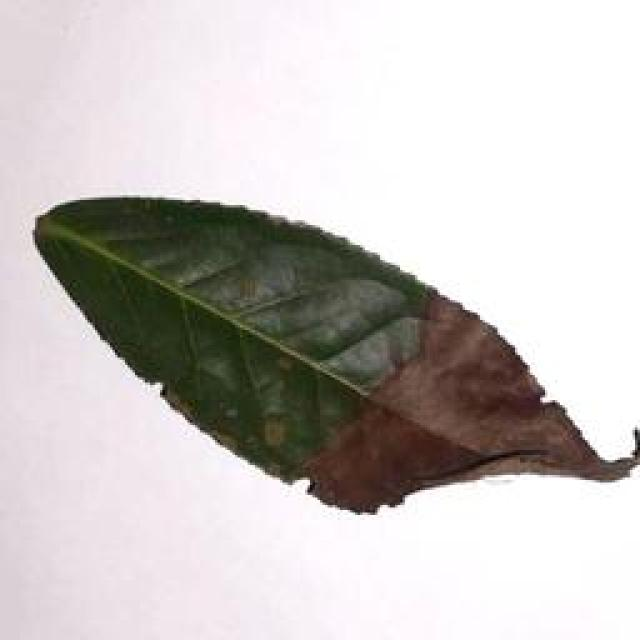Brown Blight: (23, 177, 640, 529)
